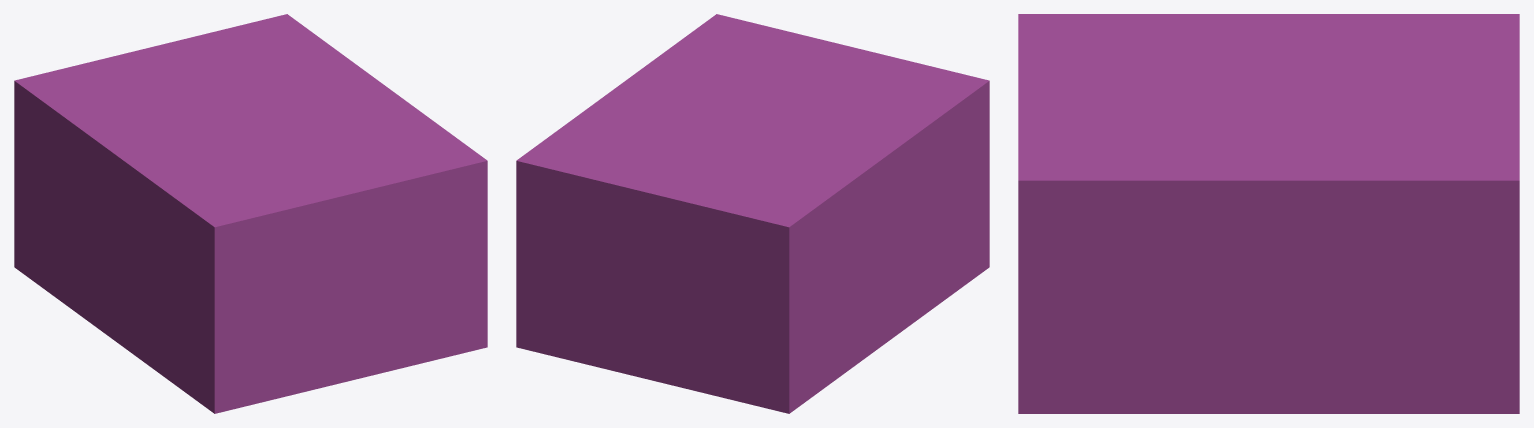
The model's file is Printer.fbx.
3 renders of one model, left to right at view 1: azimuth 30°, elevation 25°; view 2: azimuth 150°, elevation 25°; view 3: azimuth 270°, elevation 25°, orthographic. The views are drawn at different scales.
Parts seen in each view (by area): view 1: Printer; view 2: Printer; view 3: Printer.
Part boxes in pixels (x1,y1,x2,y2): Printer: (14,14,487,413); Printer: (516,14,989,413); Printer: (1018,14,1519,413).
Bounding box in the file's own units: 49.79 × 32.52 × 63.32.
